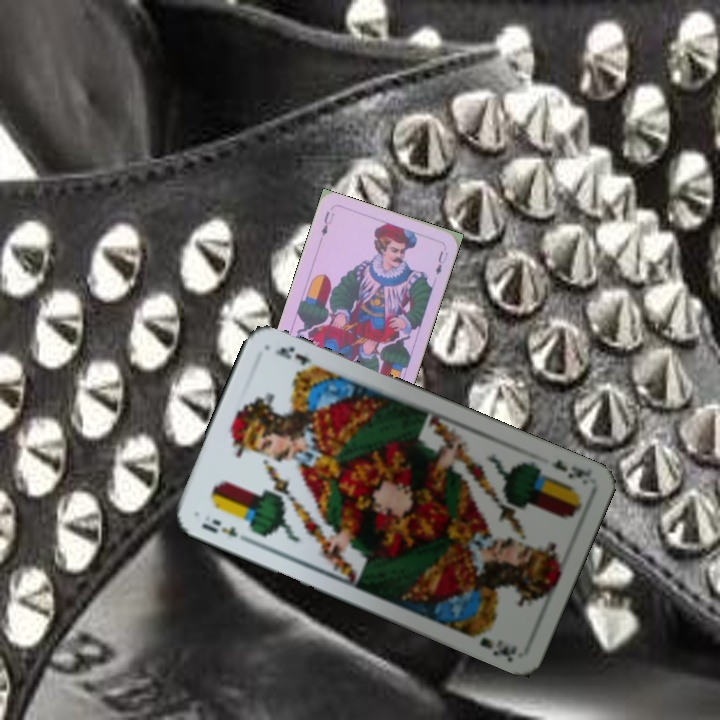EK: (546, 455, 594, 481), (198, 514, 241, 540)
EU: (317, 207, 337, 238)
